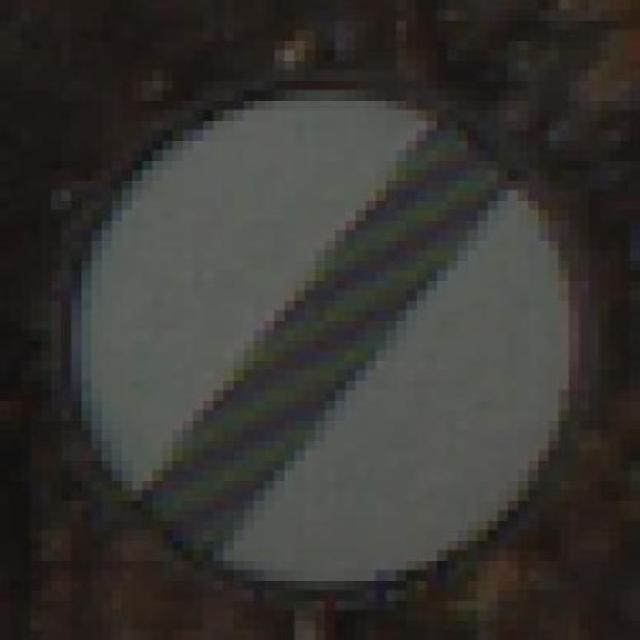End of all speed and passing limits: (67, 58, 585, 610)
